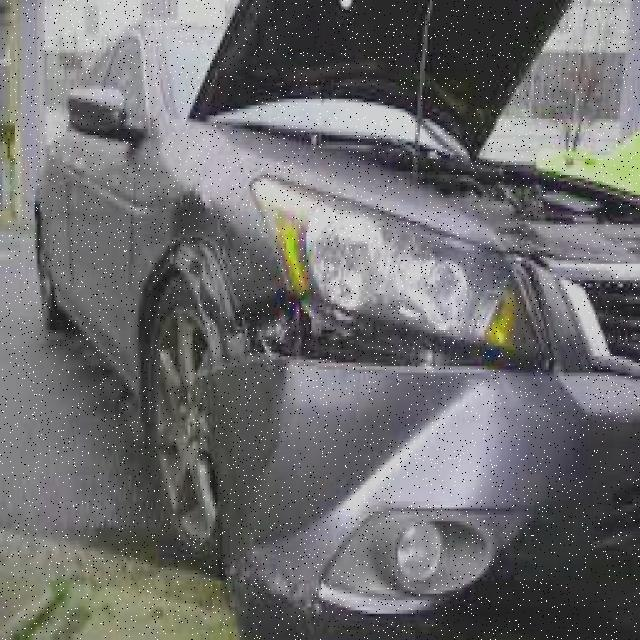car damage: (163, 182, 552, 636)
